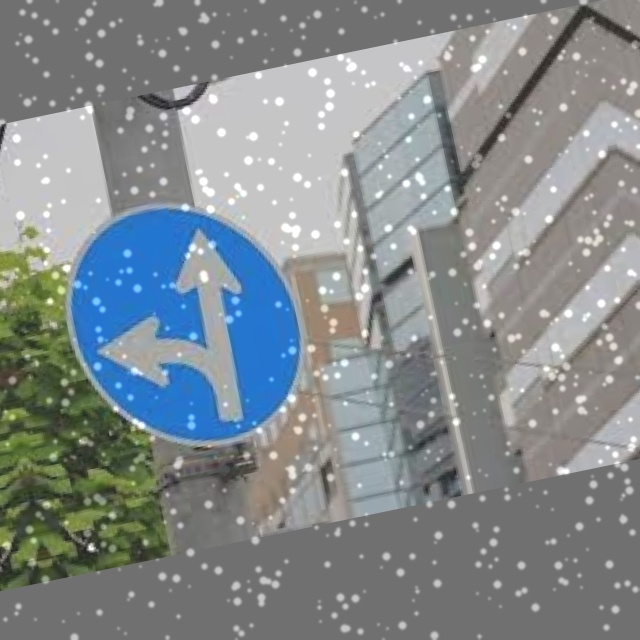Compulsory_Ahead_or_Turn_Left: (51, 181, 320, 469)
